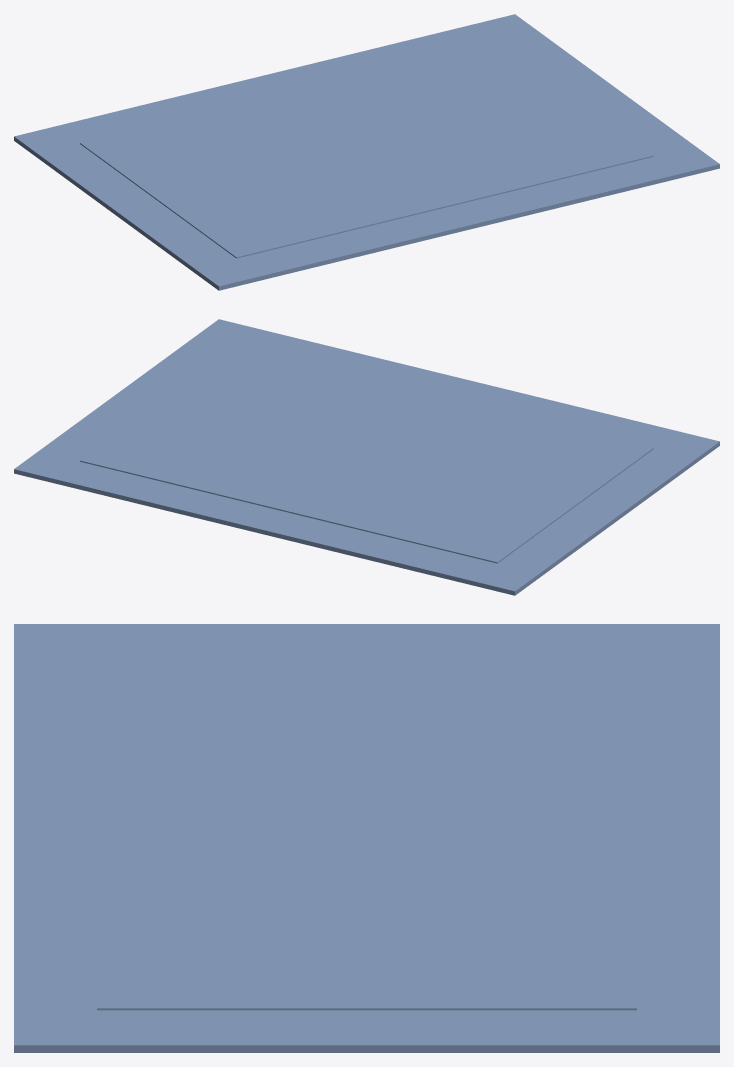
The model's file is fu_rug_blue.glb.
The picture shows the model from 3 angles, top to bottom: view 1: azimuth 30°, elevation 25°; view 2: azimuth 150°, elevation 25°; view 3: azimuth 270°, elevation 25°; orthographic projection. The views are drawn at different scales.
Visible parts, largest first — view 1: fu_rug_blue; view 2: fu_rug_blue; view 3: fu_rug_blue.
Boxes of the visible parts, <box> form: fu_rug_blue: <box>14,14,719,290</box>; fu_rug_blue: <box>14,319,719,595</box>; fu_rug_blue: <box>14,624,719,1052</box>.
Bounding box in the file's own units: 2.4 × 0.0255 × 1.7.
